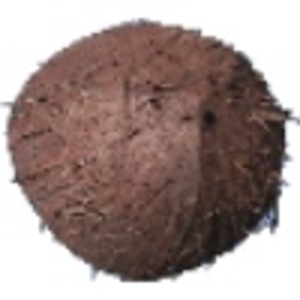coco: (3, 19, 300, 283)
